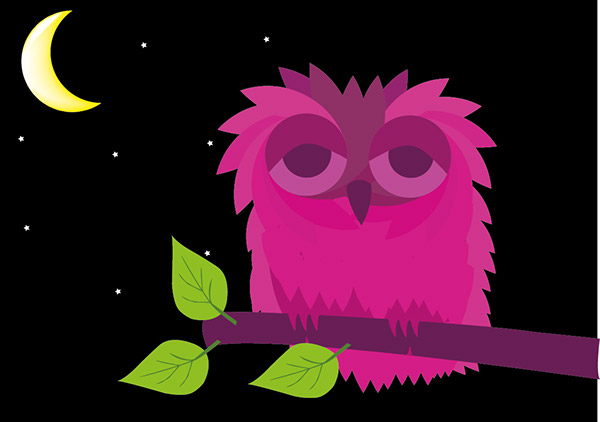bird: (213, 76, 509, 402)
